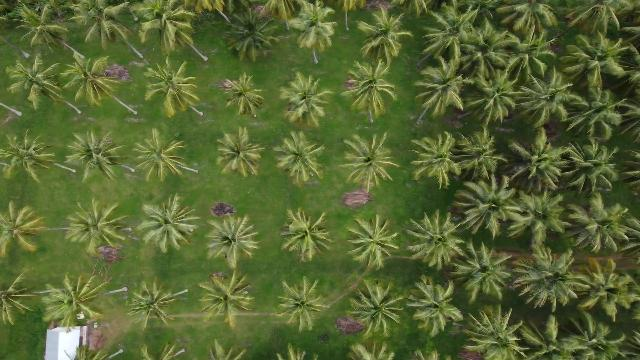trees: (560, 38, 639, 116), (509, 247, 583, 312), (455, 177, 528, 239), (502, 132, 571, 197), (566, 195, 640, 255), (508, 70, 578, 132), (42, 274, 115, 333), (450, 243, 518, 306), (463, 68, 530, 131), (570, 258, 640, 318), (136, 195, 204, 256), (65, 199, 134, 257), (418, 9, 480, 73), (558, 141, 628, 197), (406, 212, 470, 273), (58, 55, 130, 108), (459, 307, 531, 360), (5, 55, 71, 112), (339, 133, 402, 192), (135, 3, 202, 58), (64, 129, 132, 183), (143, 59, 203, 119), (348, 280, 408, 340), (343, 61, 402, 122), (354, 7, 413, 68), (404, 279, 463, 340), (199, 272, 259, 331), (413, 60, 469, 122), (132, 129, 194, 184), (345, 215, 403, 273), (275, 278, 333, 335), (409, 133, 467, 190), (125, 278, 186, 332), (224, 10, 285, 64), (557, 314, 629, 359), (73, 2, 136, 53), (279, 208, 335, 264), (205, 215, 262, 270), (1, 131, 59, 184), (291, 3, 342, 63), (280, 74, 334, 129), (275, 132, 328, 187), (13, 5, 72, 54), (451, 130, 504, 183), (2, 201, 51, 257), (217, 127, 268, 179), (497, 2, 562, 42), (218, 72, 271, 119), (1, 269, 41, 328), (328, 2, 371, 32), (260, 2, 301, 29)
